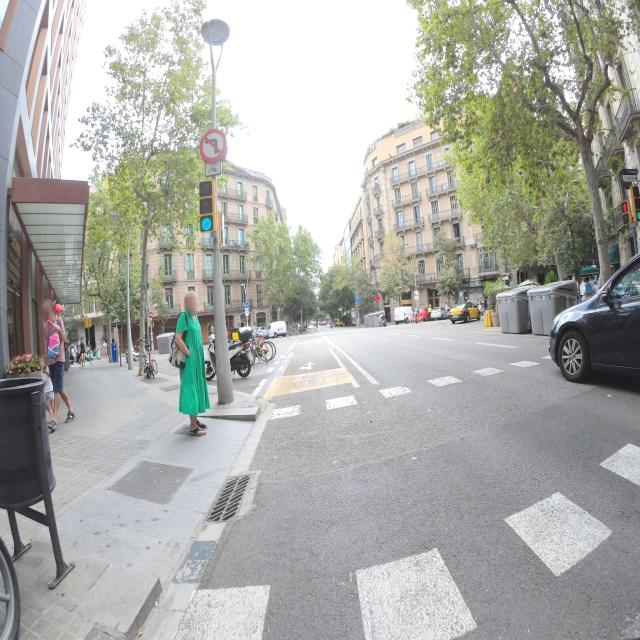bike: (239, 329, 274, 364), (410, 314, 424, 325)
car: (548, 229, 640, 409), (204, 333, 254, 379), (450, 300, 480, 324), (156, 331, 176, 355), (393, 306, 413, 324), (270, 320, 288, 338), (429, 306, 448, 321), (334, 318, 344, 327)
